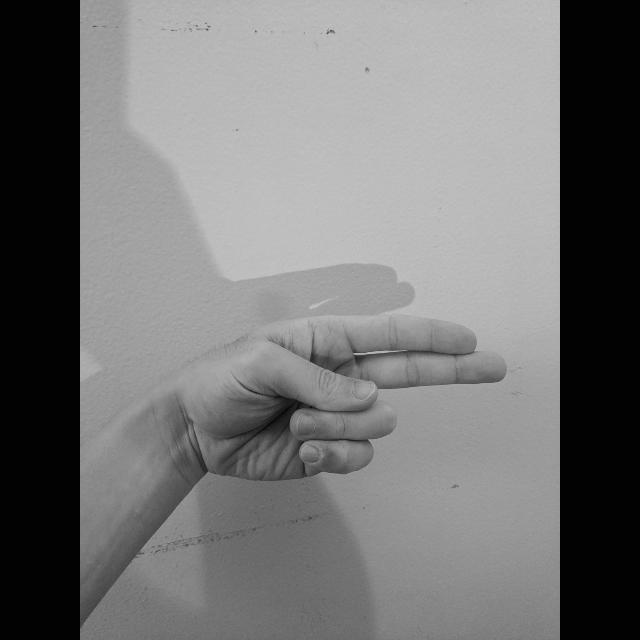H: (182, 308, 510, 488)
